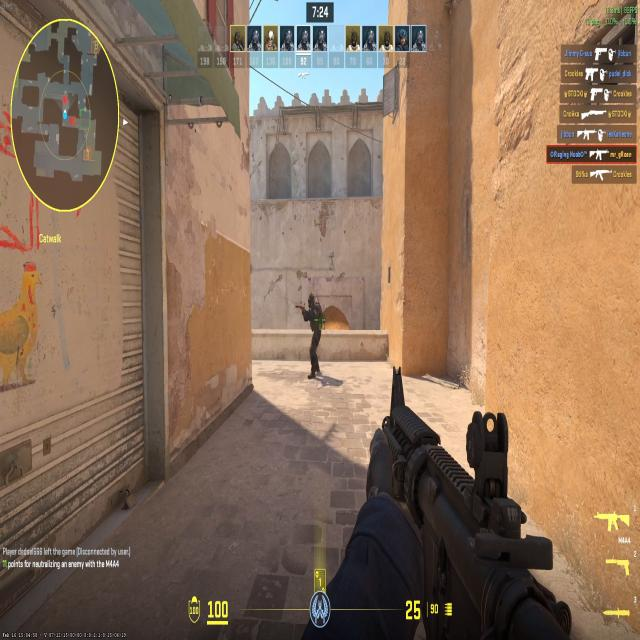player: (293, 284, 328, 384)
